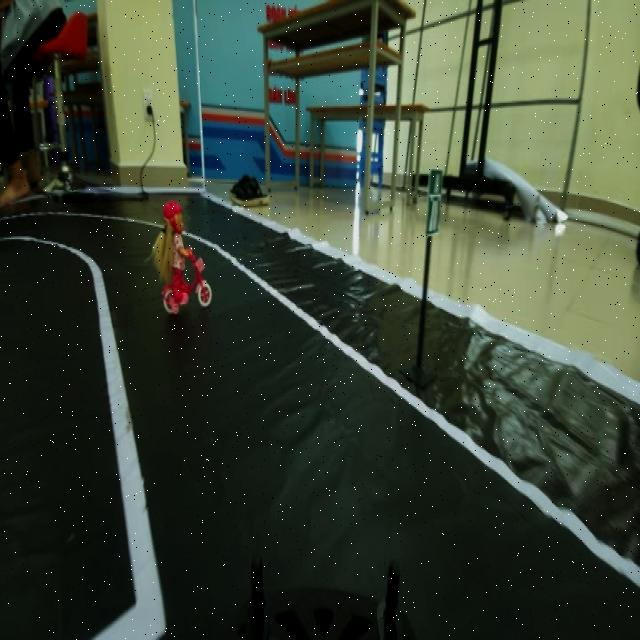highway_entry: (418, 159, 452, 251)
pedestrian: (147, 200, 224, 315)
